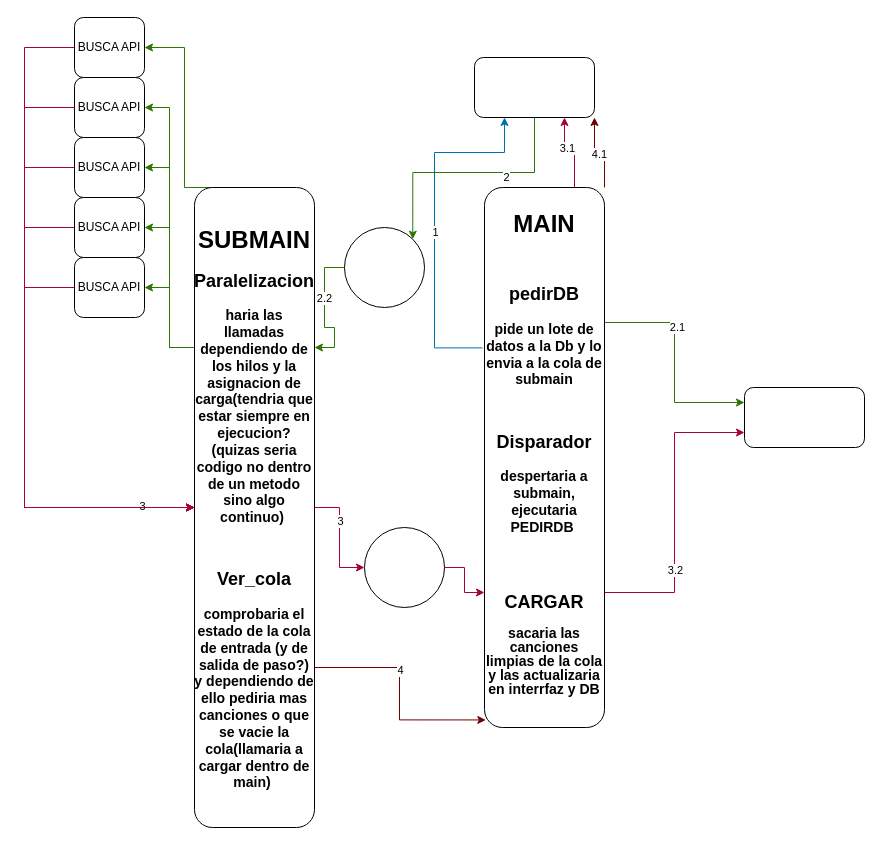
The diagram is 882 pixels wide and 845 high, and some of its shapes have lost their labels. Each missing label, with the box of its shape:
COLA ENTRADA: (344, 226, 424, 308)
COLA SALIDA: (364, 526, 444, 608)
DB: (474, 56, 594, 118)
INTERFAZ: (744, 386, 864, 448)
